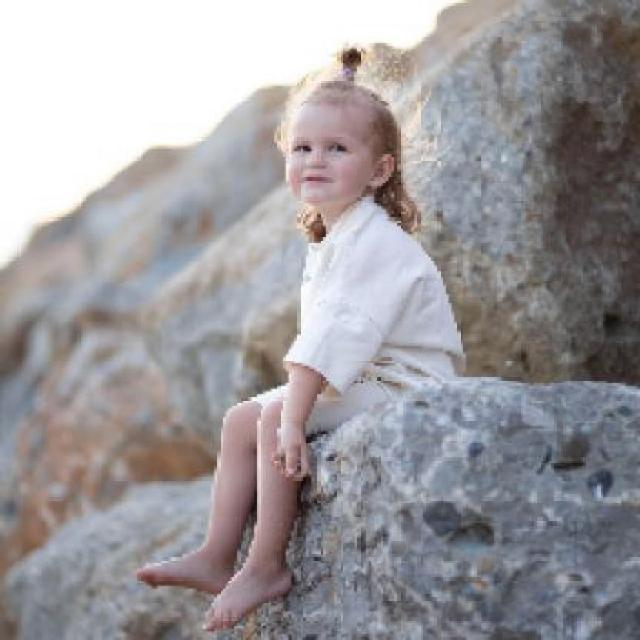child: (135, 38, 468, 633)
